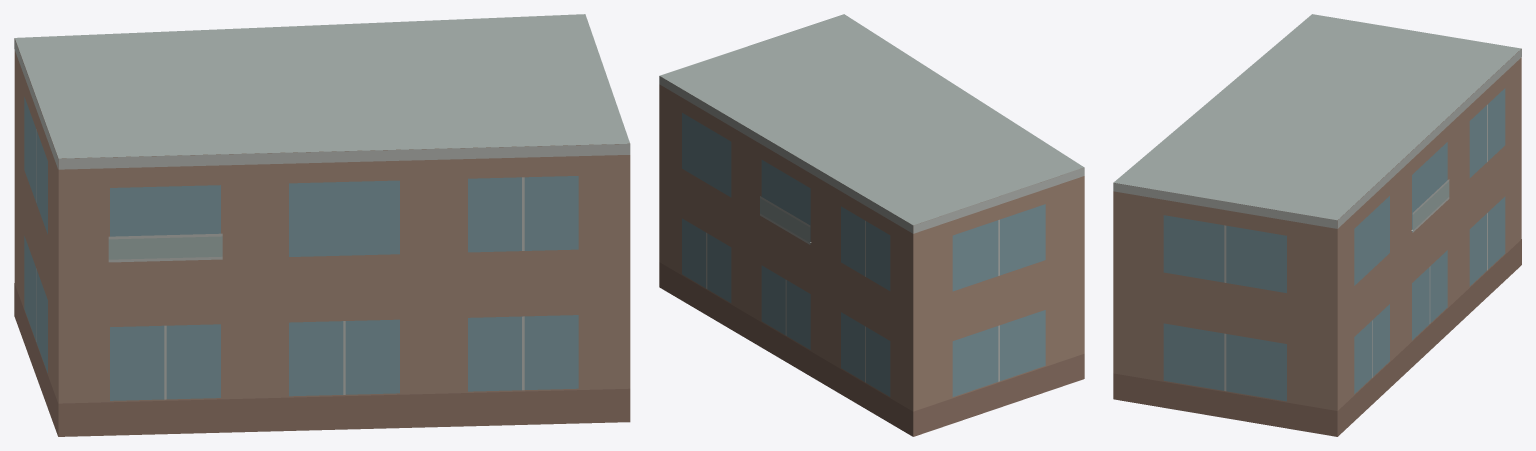
File: survey-upis-32499726.glb
The picture shows the model from 3 angles, left to right: view 1: azimuth 30°, elevation 25°; view 2: azimuth 150°, elevation 25°; view 3: azimuth 270°, elevation 25°; orthographic projection. The views are drawn at different scales.
Visible parts, largest first — view 1: survey-upis-32499726.tmp; view 2: survey-upis-32499726.tmp; view 3: survey-upis-32499726.tmp.
Boxes of the visible parts, box(x1,y1,x2,y2) form: survey-upis-32499726.tmp: box(14, 14, 630, 436); survey-upis-32499726.tmp: box(659, 14, 1084, 436); survey-upis-32499726.tmp: box(1113, 14, 1521, 436).
Bounding box in the file's own units: 12.47 × 6.1 × 10.43.
